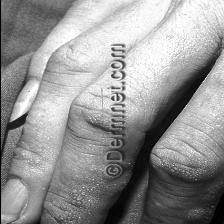Unclassified: (170, 154, 216, 192), (185, 201, 214, 224), (61, 187, 85, 211)
